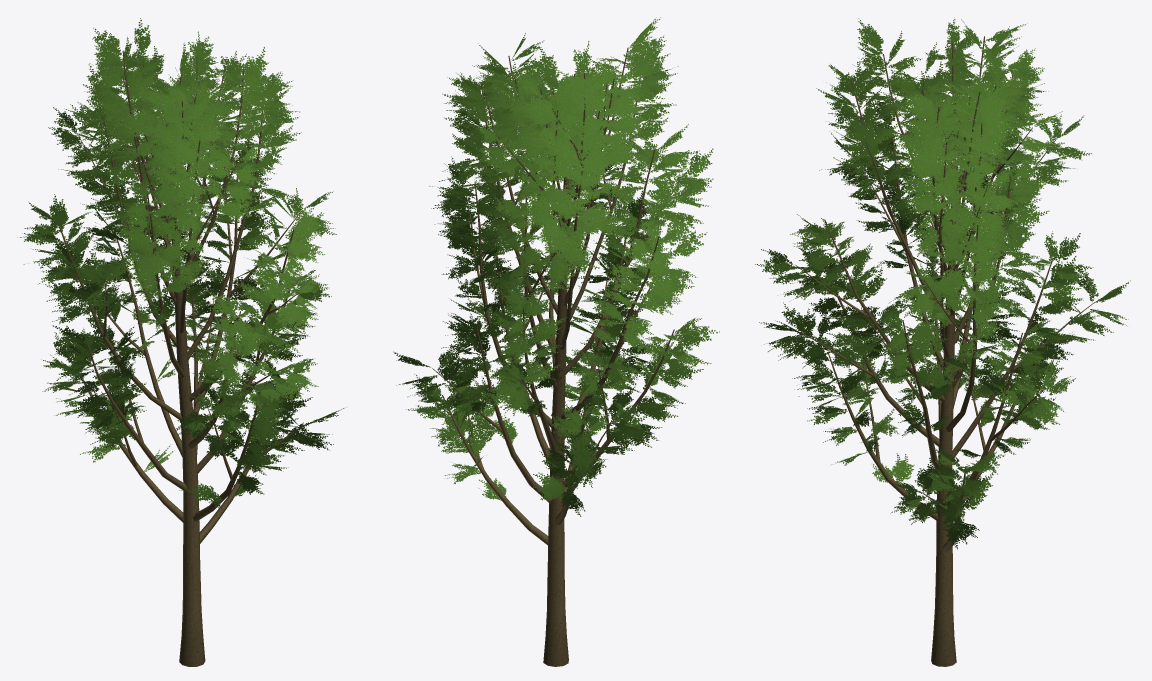
File: linden.glb
3 renders of one model, left to right at view 1: azimuth 30°, elevation 25°; view 2: azimuth 150°, elevation 25°; view 3: azimuth 270°, elevation 25°, orthographic. The views are drawn at different scales.
Visible parts, largest first — view 1: linden; view 2: linden; view 3: linden.
Boxes of the visible parts, <box> form: linden: <box>17,18,346,666</box>; linden: <box>393,17,719,666</box>; linden: <box>755,17,1130,666</box>.
Bounding box in the file's own units: 7.25 × 14.84 × 8.42.
3 materials, 2 textured.
